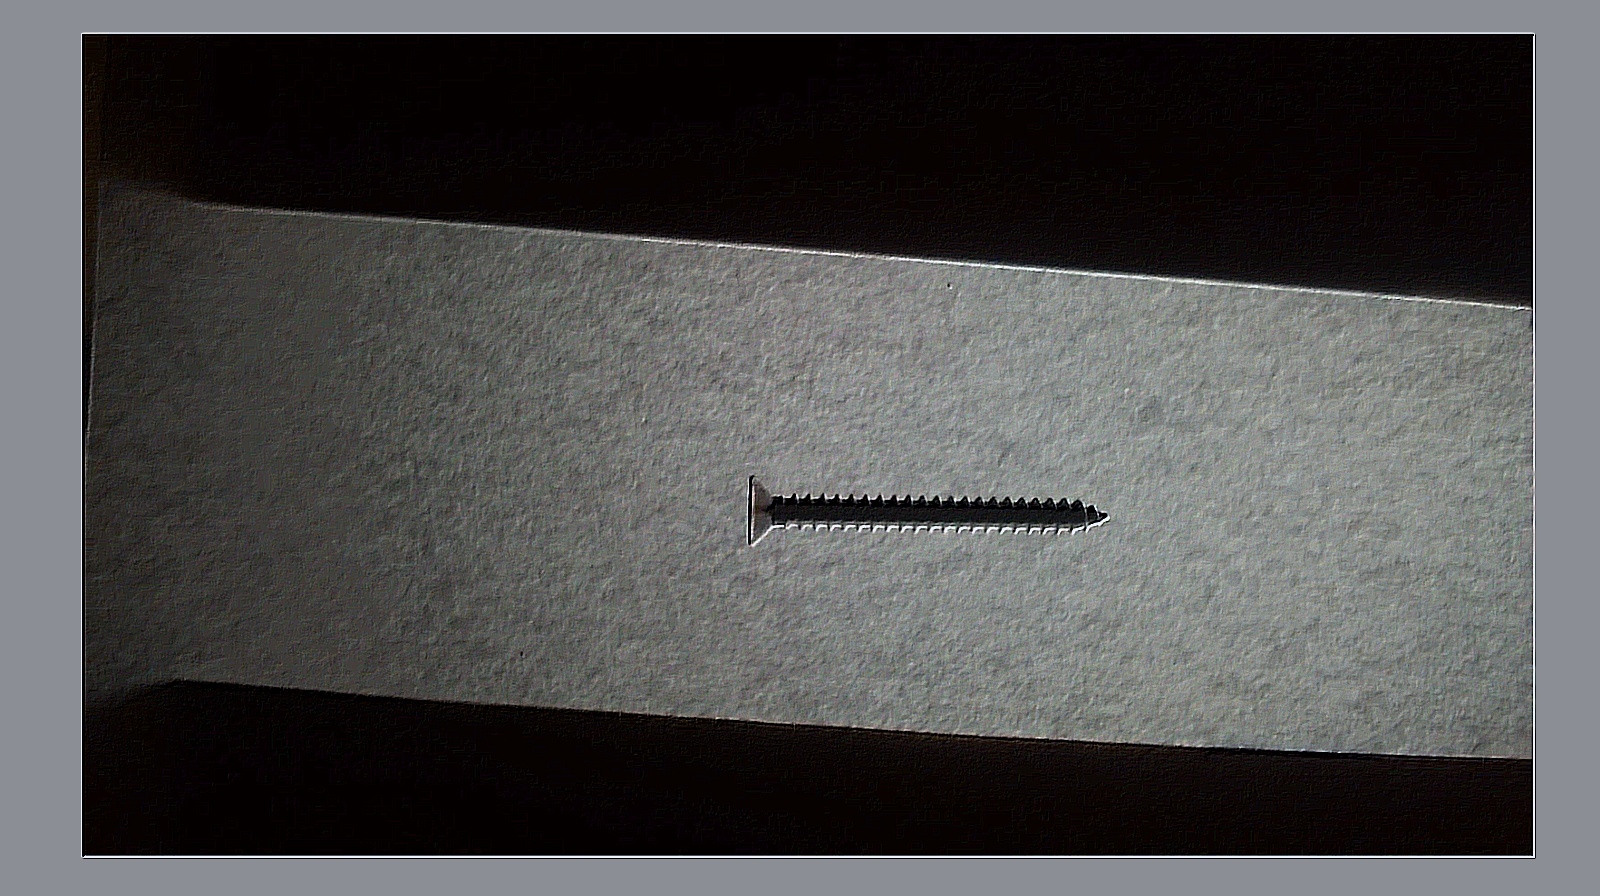S002: (738, 471, 1115, 543)
